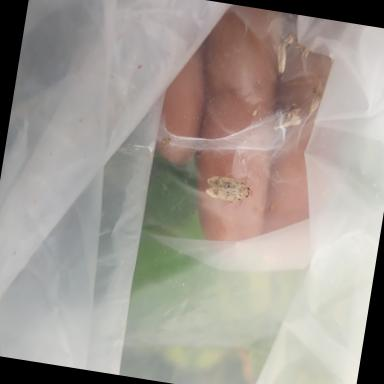pbw: (203, 170, 255, 212), (272, 40, 288, 76)
